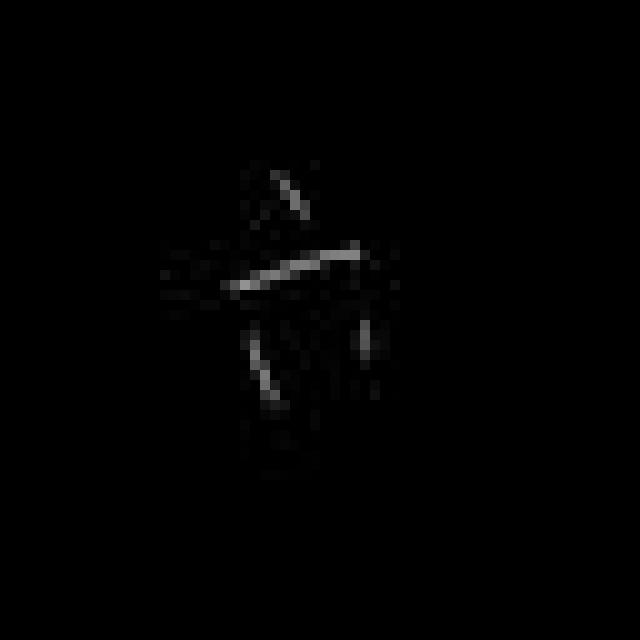6 -six-: (219, 163, 391, 412)
